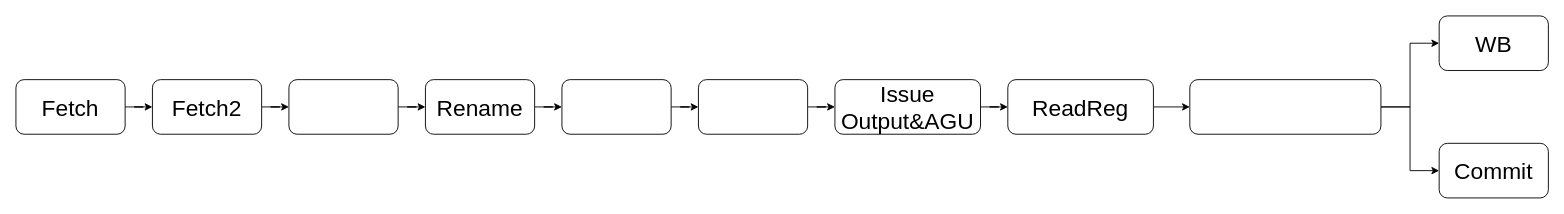
Some shapes in this 1564 by 214 pixel diagram are drawn without their labels. The box of each missing label's shape, as (x1, y1, x2, y2) in pixels:
Decode: (288, 79, 398, 134)
Dispatch: (561, 79, 671, 134)
Execute (2 stages for load): (1189, 79, 1381, 134)
Issue Input: (698, 79, 808, 134)
